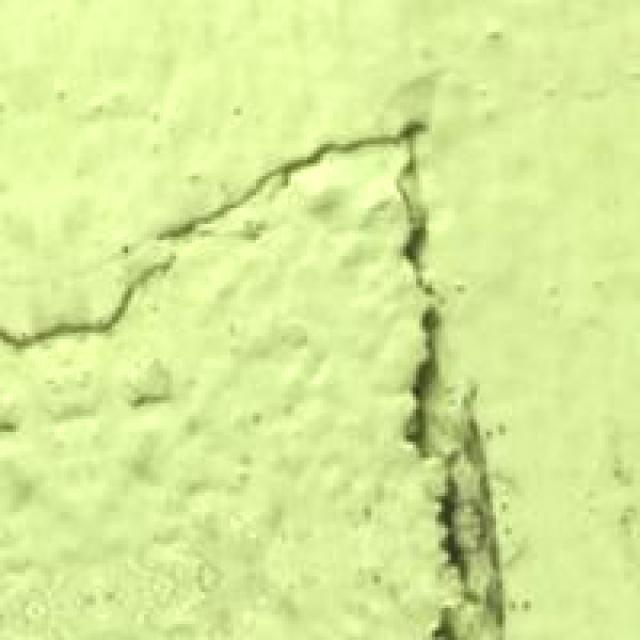SurfaceCrack: (12, 116, 502, 640)
